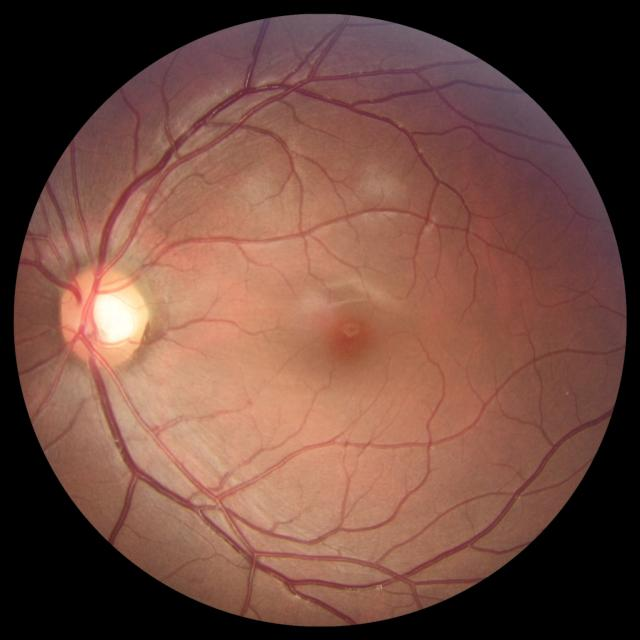OC: (85, 286, 136, 345)
OD: (59, 264, 147, 369)
